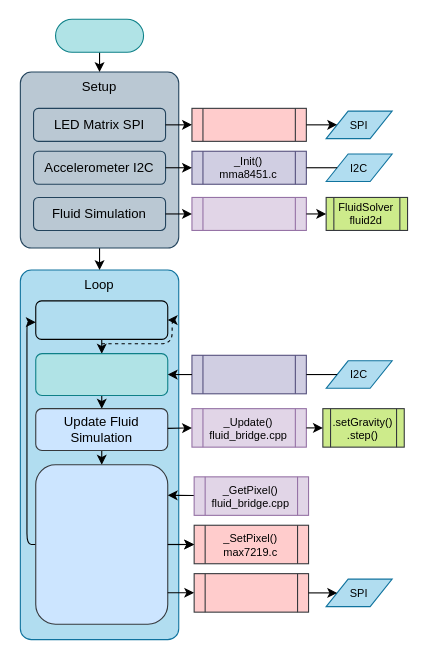
This 444x659 diagram has some shape labels left out. The centre of each missing label's shape, as x and y in pixels:
"_Init() fluid_bridge.cpp" goes at point 248,213.
"_Init() max7219.c" goes at point 248,124.
"_read() mma8451.c" goes at point 248,374.
"_Update() max7219.c" goes at point 251,592.
"Read accelerometer values" goes at point 101,374.
"Start" goes at point 99,35.
"Tick Rate Limiter" goes at point 101,319.
"Update LED Matrix" goes at point 101,544.
